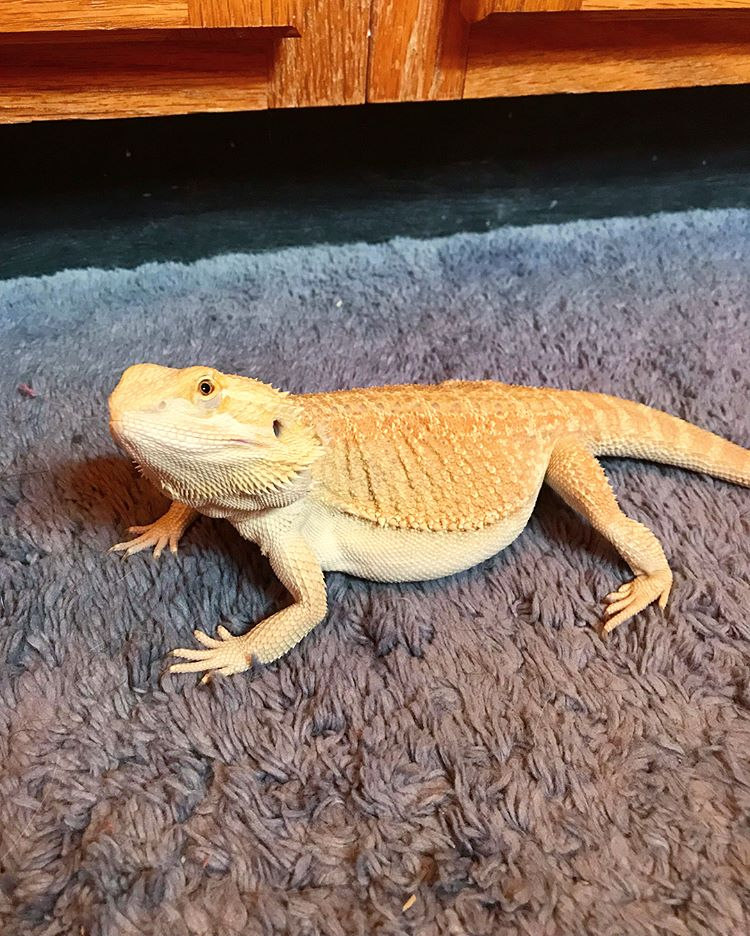bearded: (106, 343, 750, 683)
